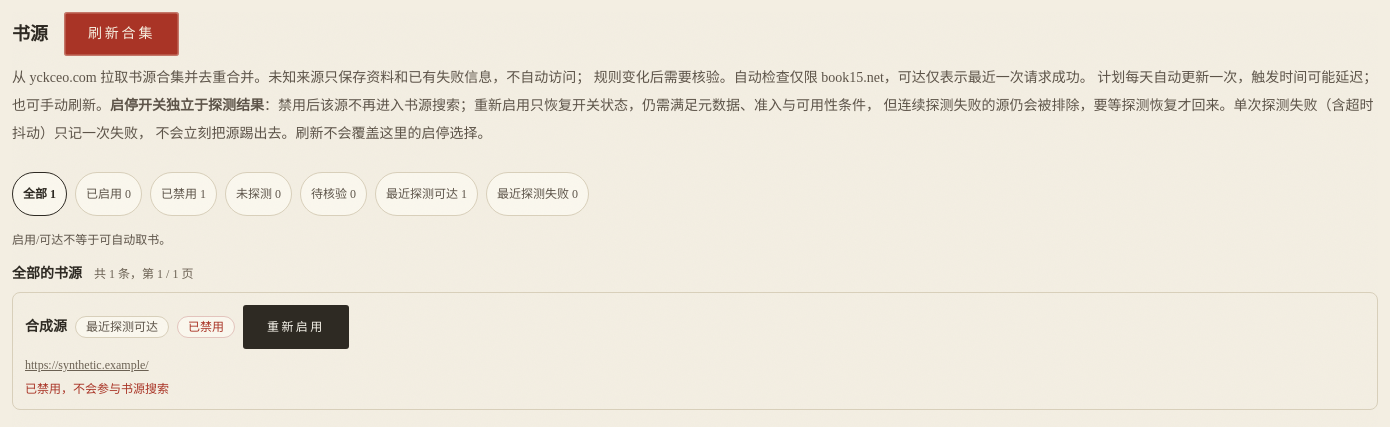
enable 会话边界 › 同会话切筛选后，旧操作收尾仍解除按钮忙碌且不重载旧筛选
This screenshot has width=1390, height=427.
Expected: the text "合成源" is shown, [25,317,67,337]
What coordinates should you click on to do the following:
click the button "重新启用"
I would click on:
 (296, 327)
Its box is [243,305,349,349].
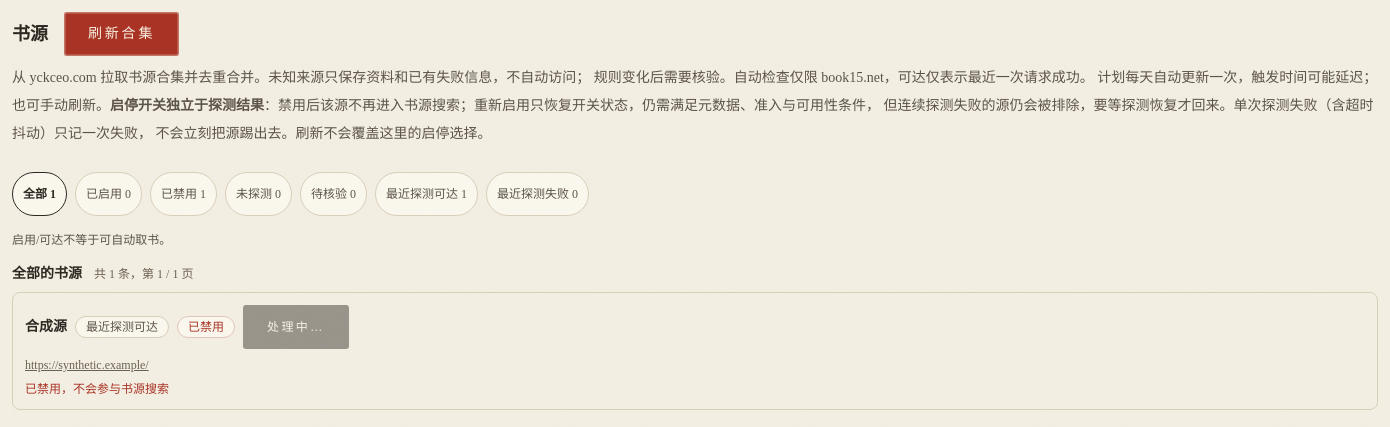
What coordinates should you click on to do the following:
click the button "最近探测可达 1"
I would click on:
 (427, 194)
Its box is [375,172,478,216].
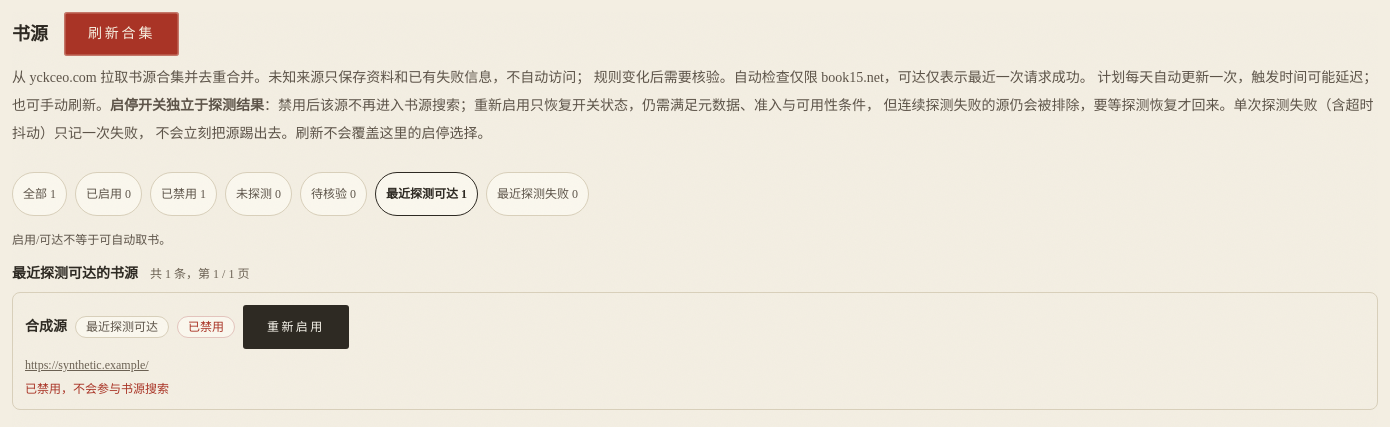
Now the button "重新启用" is enabled, box [243,305,349,349]
